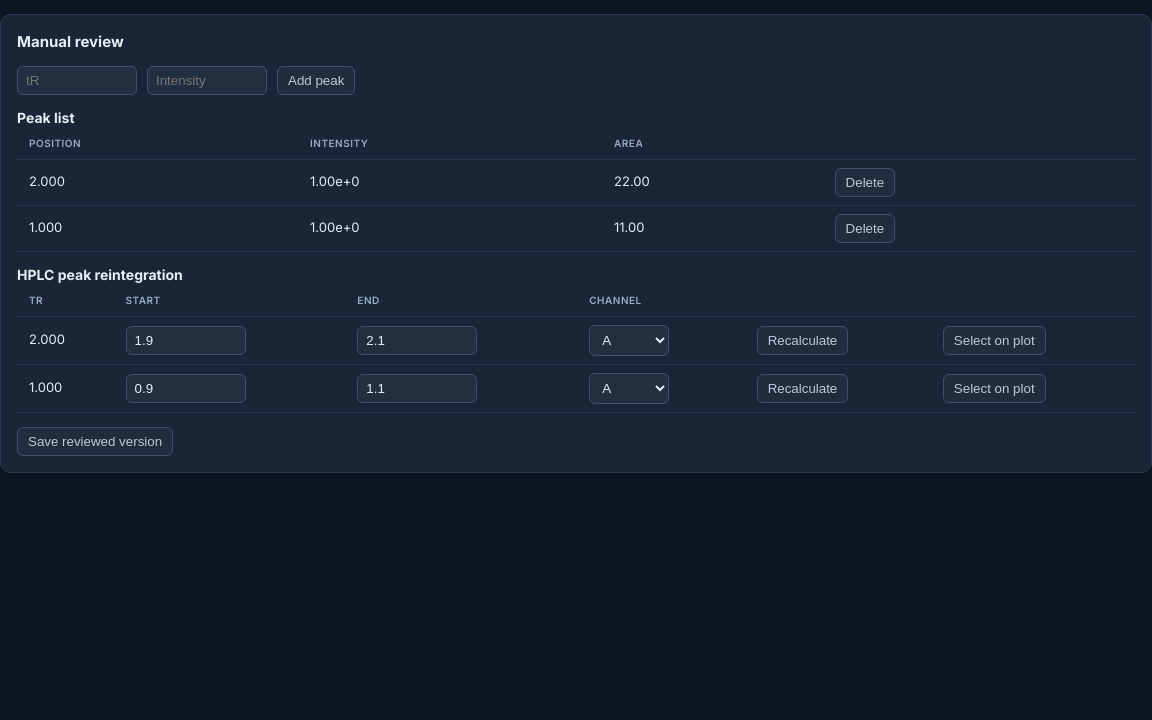
Test case: manual recalculation ownership › keeps custom windows with their existing peaks when insertion sorts the rows
Replace the text in the 3rd field with "1.7": (186, 340) [126, 326, 246, 354]
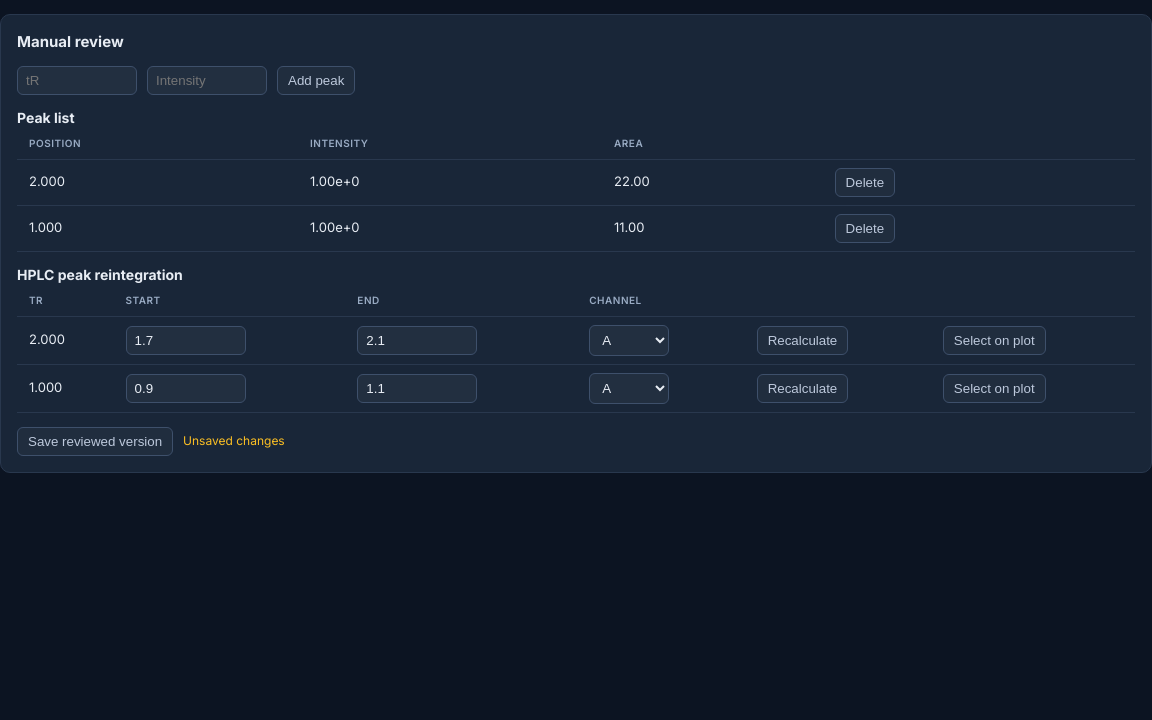
Select "B" in the 1st dropdown: (629, 340) [589, 324, 669, 356]
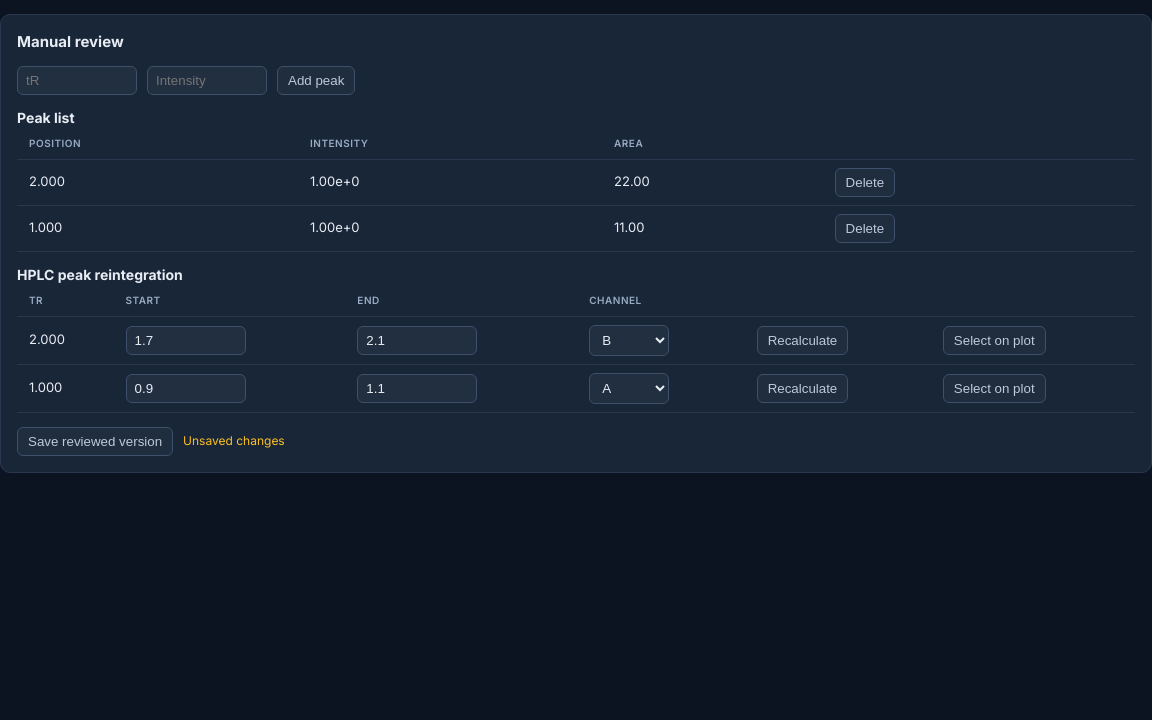
Replace the text in the 5th field with "0.7": (186, 388) [126, 374, 246, 402]
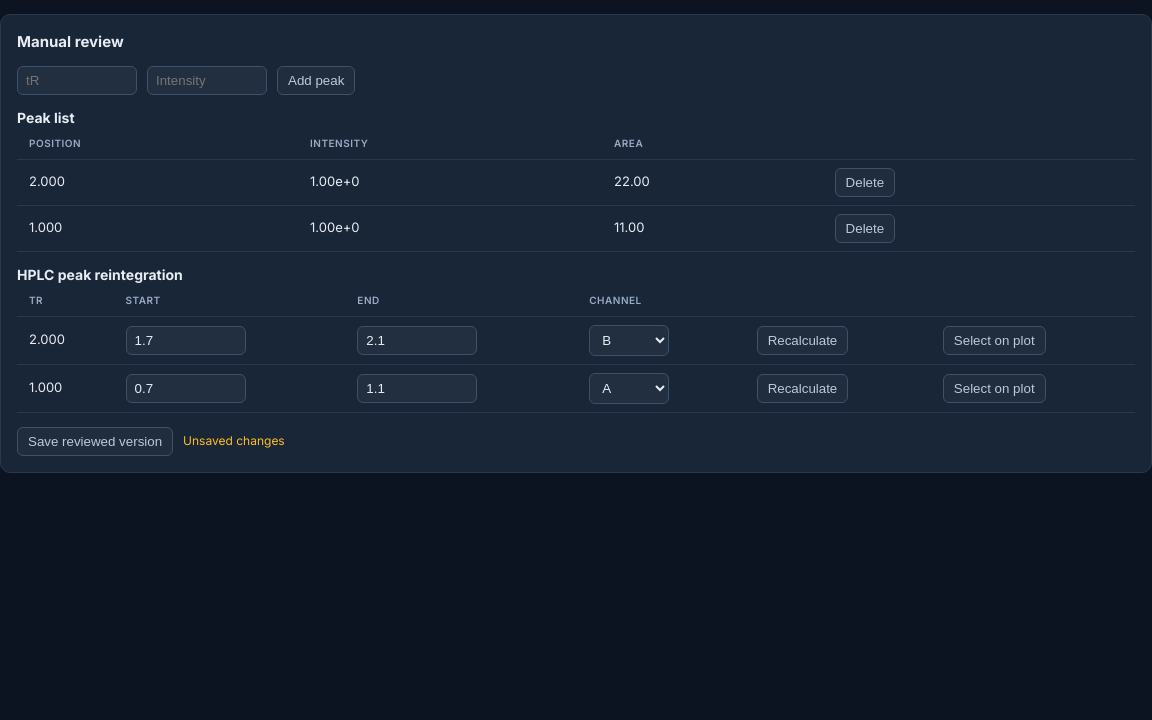
In the field named "Position": (77, 80) [17, 66, 137, 94], type "0.5"
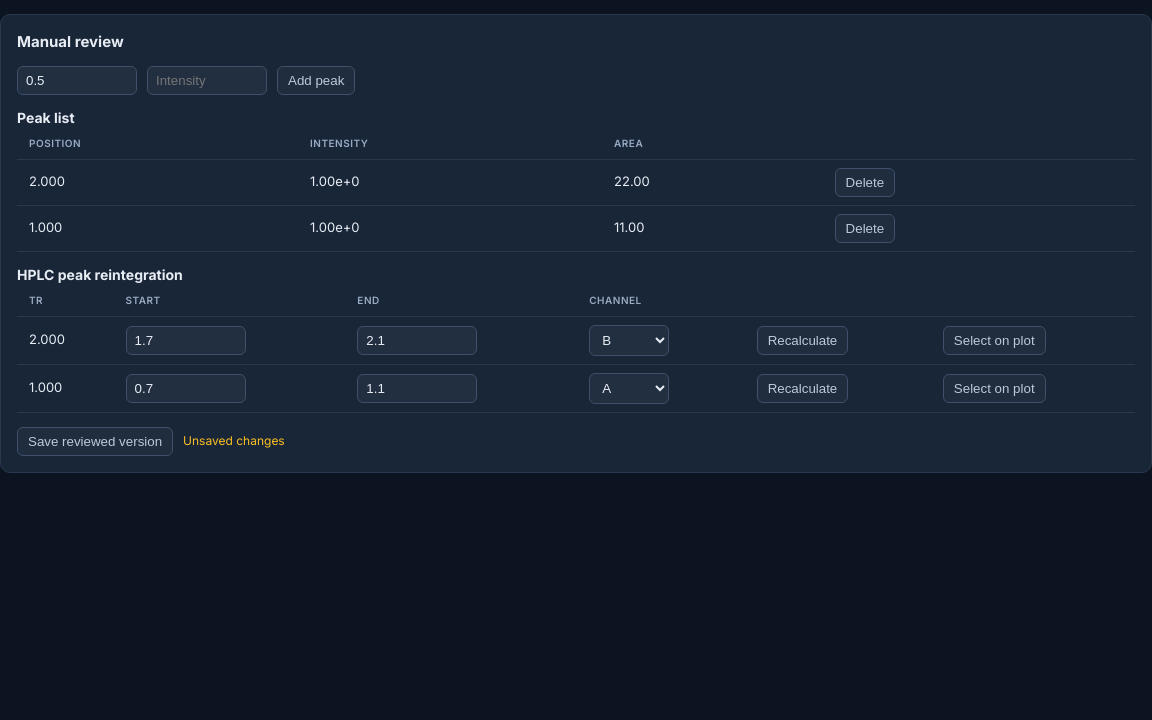
In the field labelled "Intensity": (207, 80) [147, 66, 267, 94], type "1"
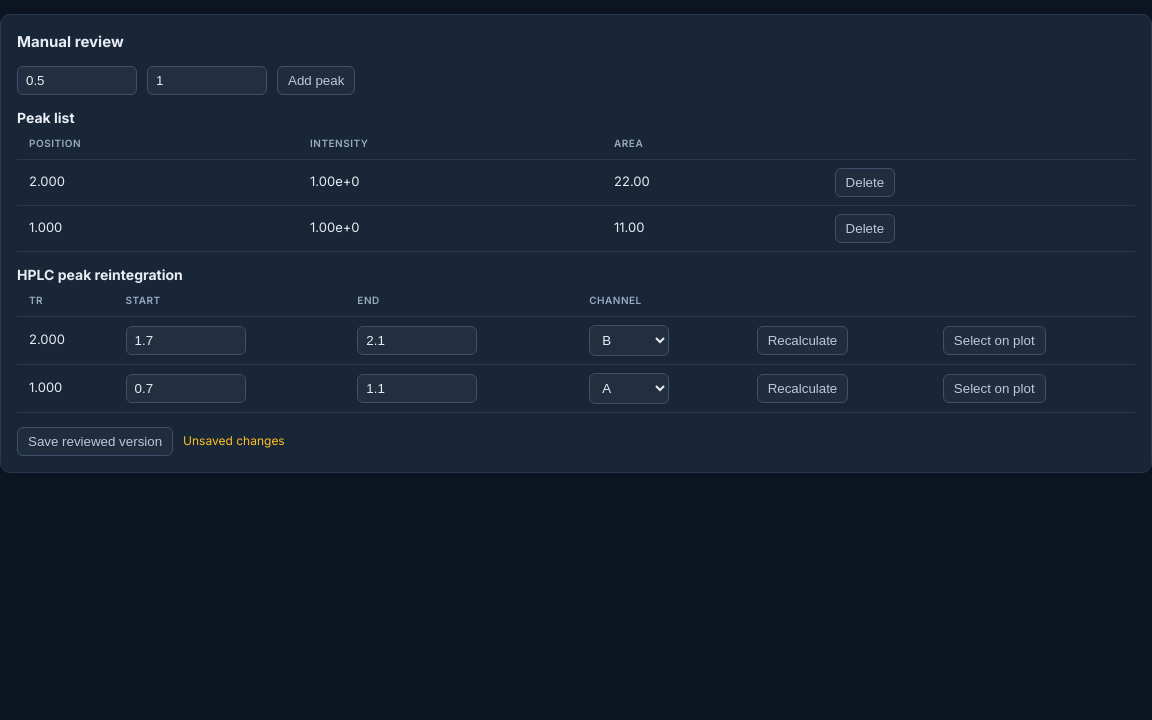
Click the button "Add peak": (316, 80) [277, 66, 355, 94]
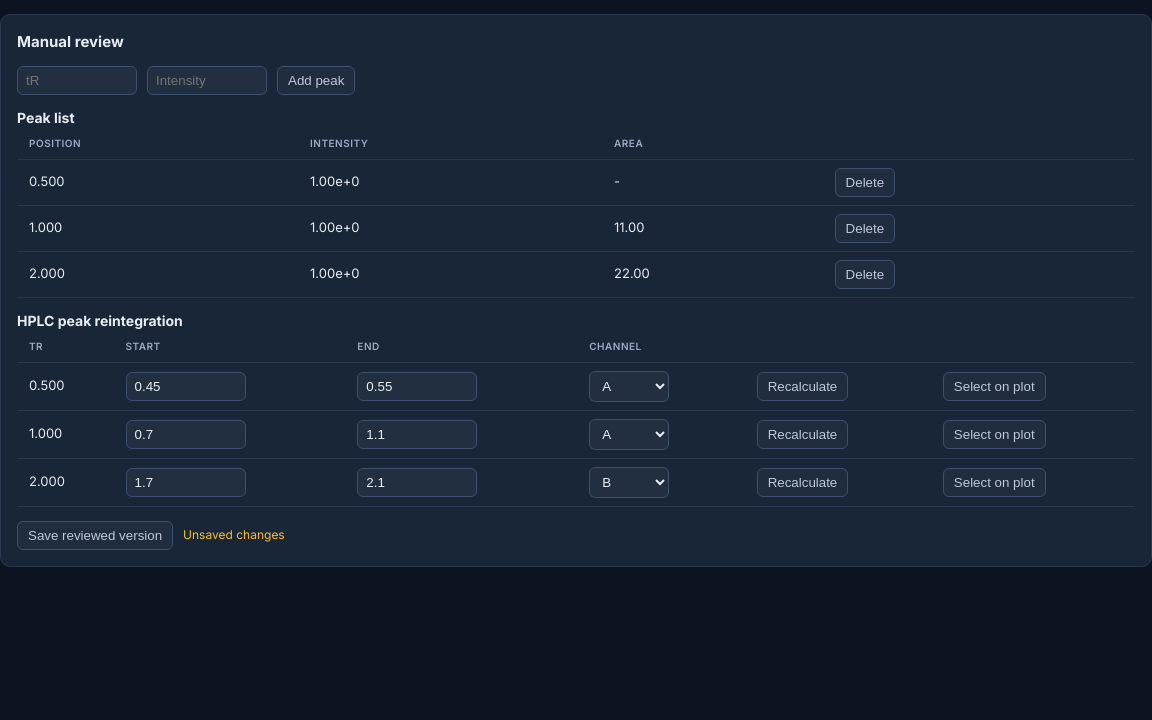
Now the 7th field holds "1.7", box [126, 468, 246, 496]
Now the cell "0.500" below "tR" is shown, box [17, 362, 114, 410]
Now the 3rd field holds "0.45", box [126, 372, 246, 400]
